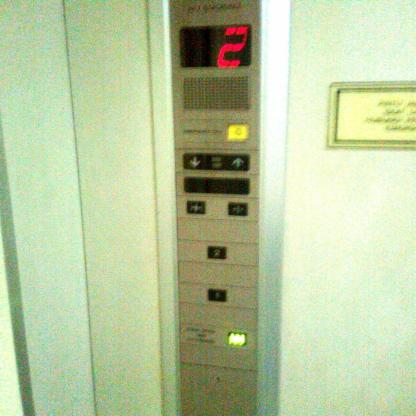2: (207, 246, 227, 259)
alarm: (226, 124, 249, 140)
blur: (226, 332, 247, 346), (186, 200, 206, 214), (228, 202, 248, 216), (207, 288, 227, 301)
led: (178, 23, 252, 67), (182, 177, 250, 194)
